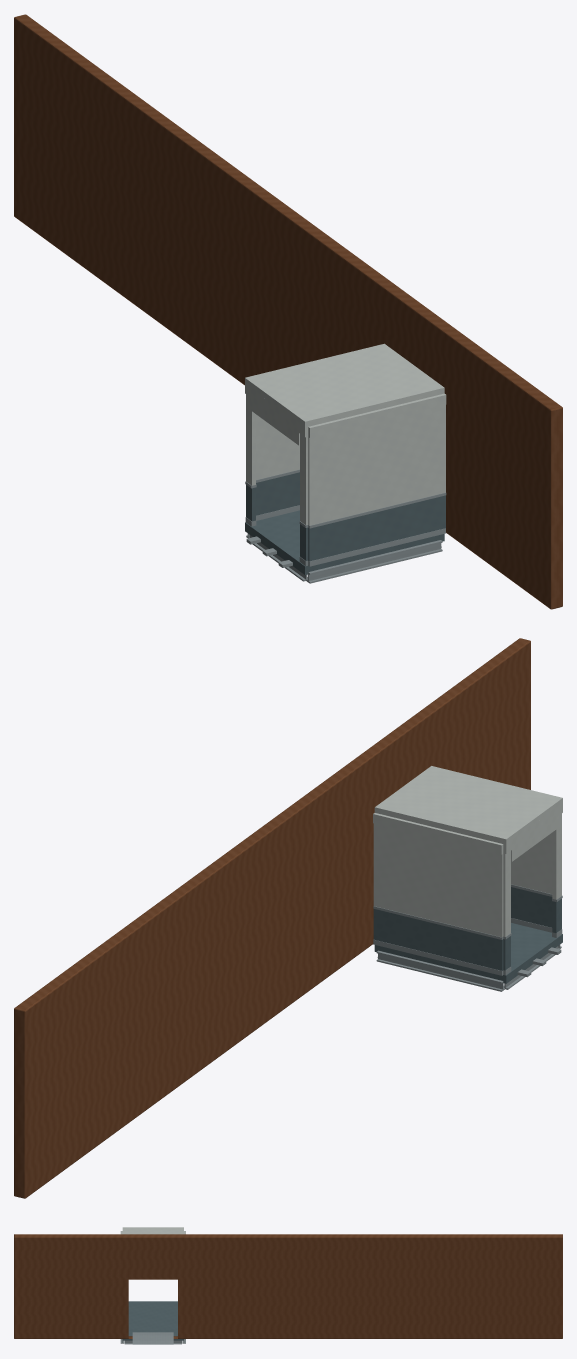
File: FRESH_REEXPORT.glb
The picture shows the model from 3 angles, top to bottom: view 1: azimuth 30°, elevation 25°; view 2: azimuth 150°, elevation 25°; view 3: azimuth 270°, elevation 25°; orthographic projection. The views are drawn at different scales.
Parts seen in each view (by area): view 1: STR_SUCCESSOR_E_west_north, STR_BATCH_002, STR_BATCH_000, STR_BATCH_003; view 2: STR_SUCCESSOR_E_west_north, STR_BATCH_002, STR_BATCH_000, STR_BATCH_003; view 3: STR_SUCCESSOR_E_west_north, STR_BATCH_000, STR_BATCH_003, STR_BATCH_002.
Boxes of the visible parts, x1,y1,x2,y2 form: STR_SUCCESSOR_E_west_north: [14, 14, 562, 609]; STR_BATCH_002: [245, 343, 446, 525]; STR_BATCH_000: [245, 472, 445, 574]; STR_BATCH_003: [245, 469, 446, 583]; STR_SUCCESSOR_E_west_north: [14, 638, 530, 1198]; STR_BATCH_002: [373, 766, 562, 937]; STR_BATCH_000: [373, 887, 562, 983]; STR_BATCH_003: [373, 884, 562, 991]; STR_SUCCESSOR_E_west_north: [14, 1234, 562, 1338]; STR_BATCH_000: [122, 1301, 183, 1340]; STR_BATCH_003: [120, 1332, 185, 1344]; STR_BATCH_002: [120, 1227, 185, 1234].
Size of the model in its own units: 5.3 by 5.96 by 26.8.
7 materials, 6 textured.
